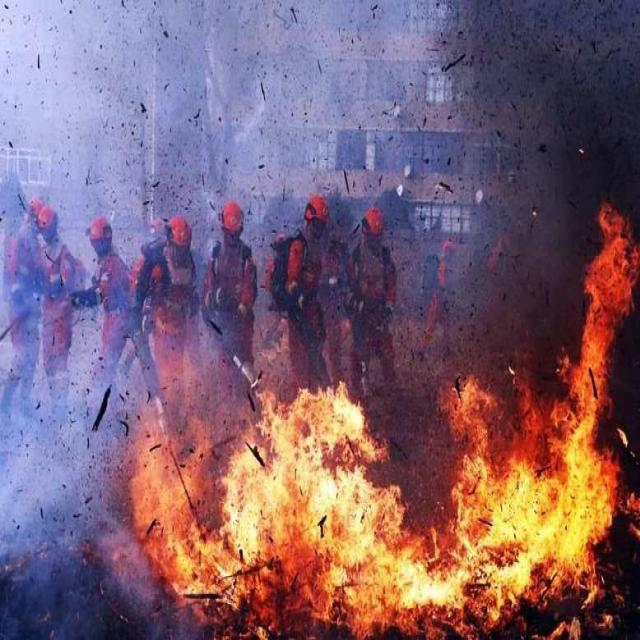Fire: (442, 206, 638, 604), (223, 385, 441, 625)
